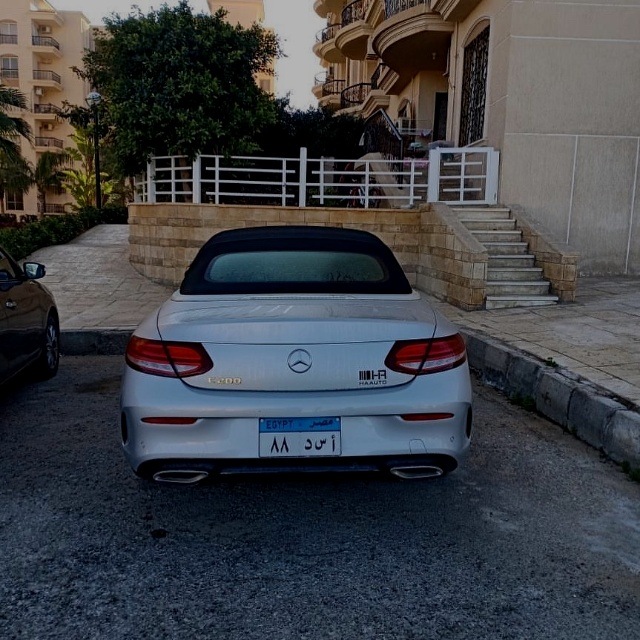License Plate: (254, 415, 342, 458)
